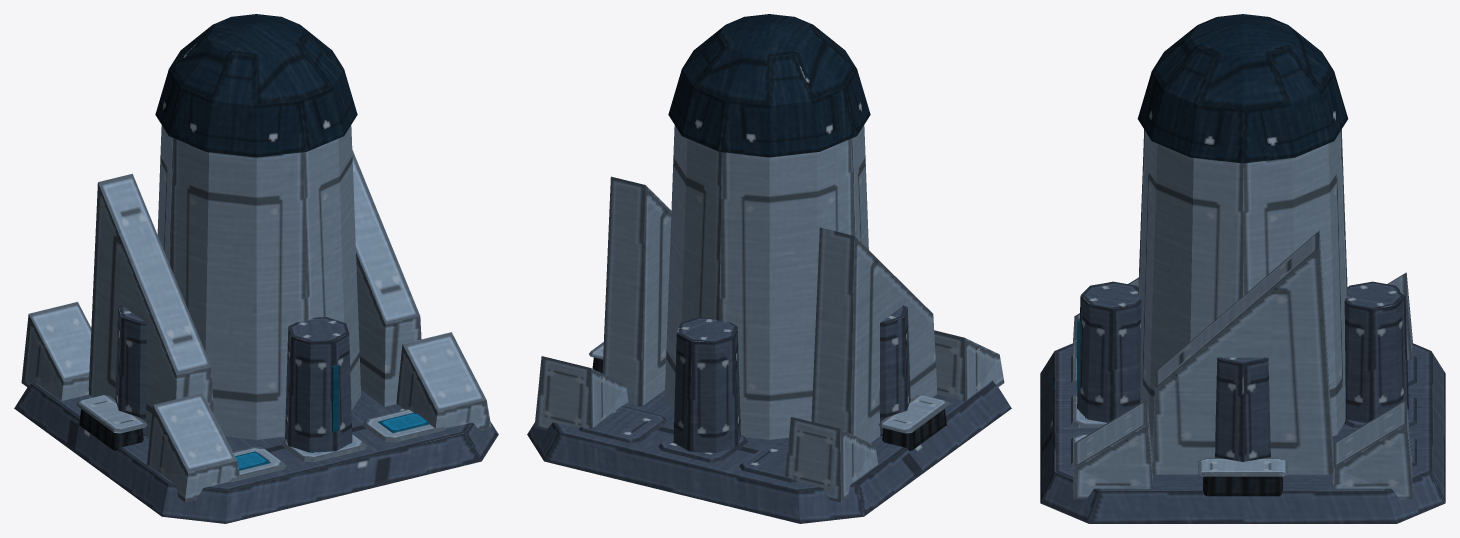
Rendered from building-shield.fbx.
3 renders of one model, left to right at view 1: azimuth 30°, elevation 25°; view 2: azimuth 150°, elevation 25°; view 3: azimuth 270°, elevation 25°, orthographic. The views are drawn at different scales.
Parts seen in each view (by area): view 1: building-shield; view 2: building-shield; view 3: building-shield.
Boxes of the visible parts, x1,y1,x2,y2 form: building-shield: (14,14,498,523); building-shield: (527,14,1011,523); building-shield: (1040,14,1445,523).
Bounding box in the file's own units: 2184 × 2468 × 2184.
1 material, 1 textured.
